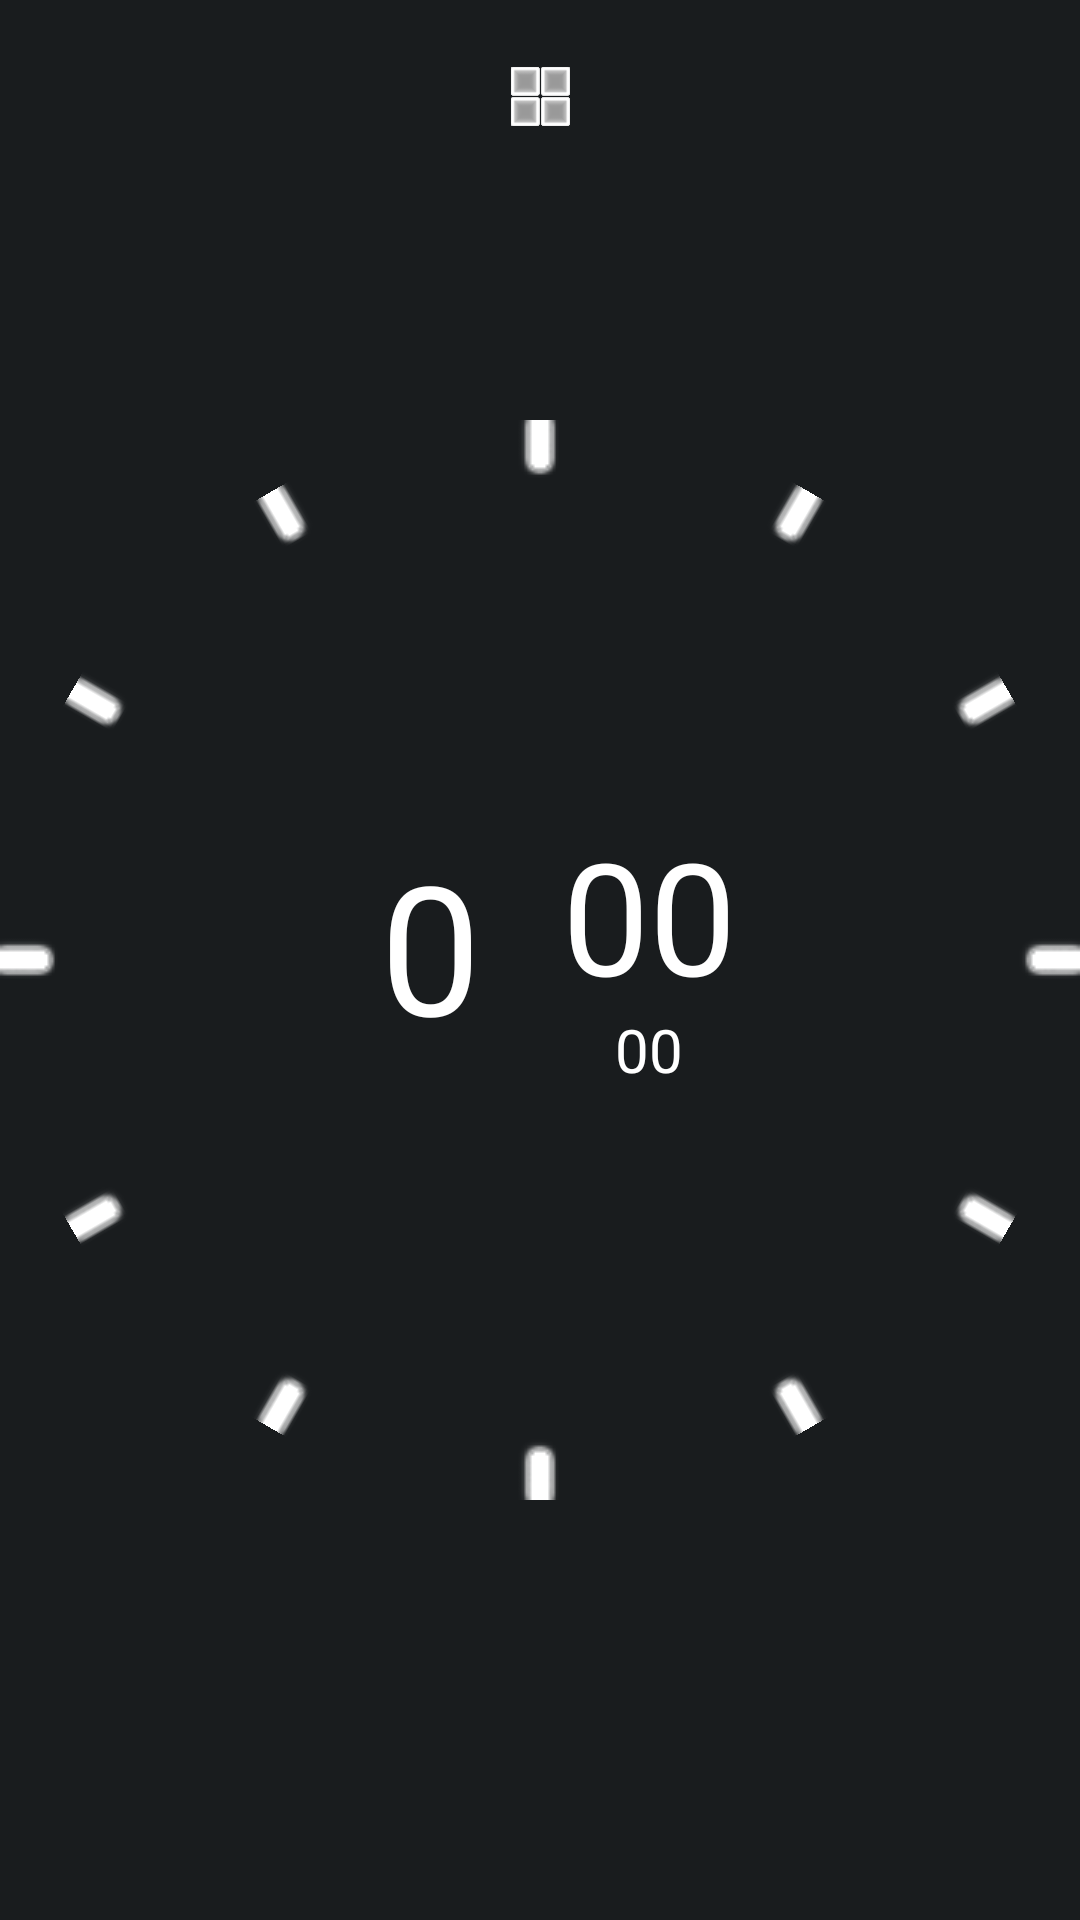

Named icons in this screenshot (1080x1920) and their centers, point (x, y):
Recent applications icon: point (540, 96)
